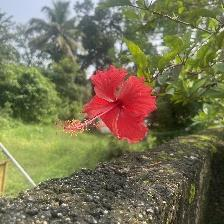hibiscus: (54, 61, 160, 148)
